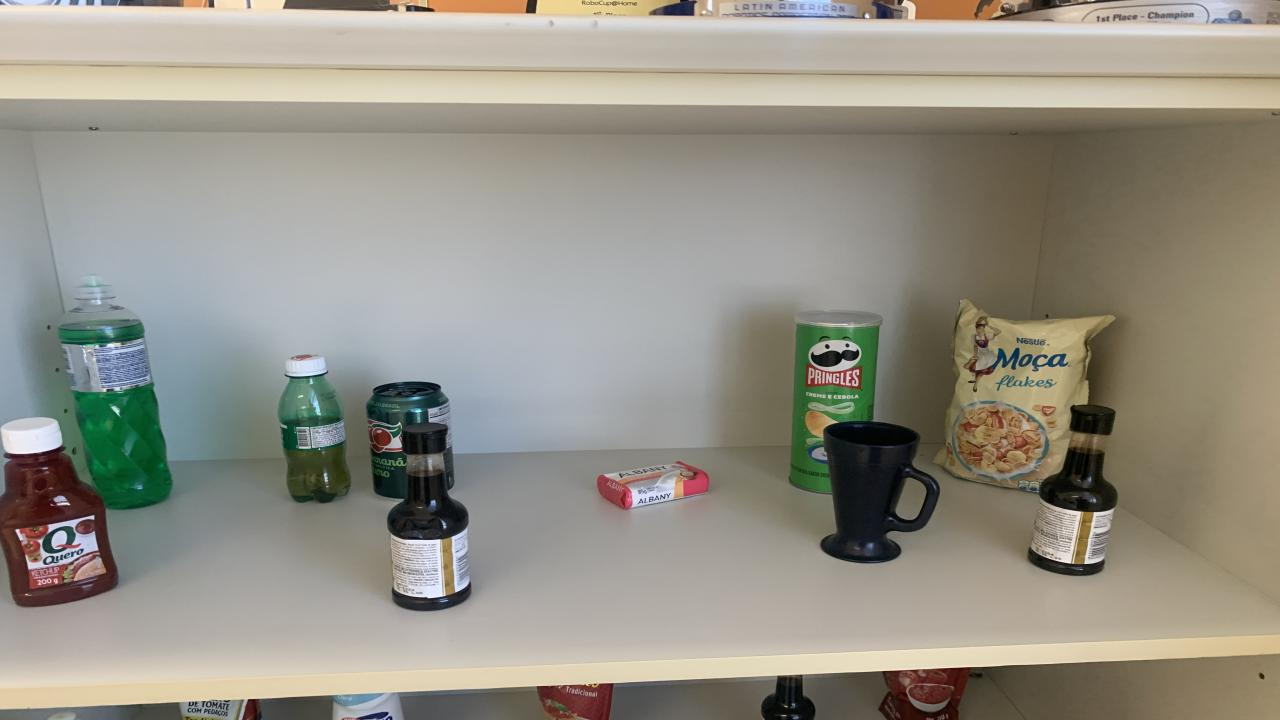Cleaner-Cleanup_Items: (332, 692, 402, 720)
Detergent-Cleanup_Items: (58, 278, 172, 508)
English_Sauce-Pantry_Items: (1028, 405, 1118, 576), (388, 424, 470, 611), (760, 675, 815, 720)
Flakes-Snacks: (938, 300, 1115, 489)
Guarana-Drinks: (278, 354, 350, 502)
Guarana_Can-Drinks: (368, 382, 450, 499)
Ketchup-Pantry_Items: (0, 416, 118, 608)
Pringles-Snacks: (790, 309, 882, 493)
Soap-Cleanup_Items: (598, 463, 710, 508)
Tomato_Sauce-Pantry_Items: (878, 668, 970, 720), (538, 684, 612, 720), (180, 699, 260, 720)
